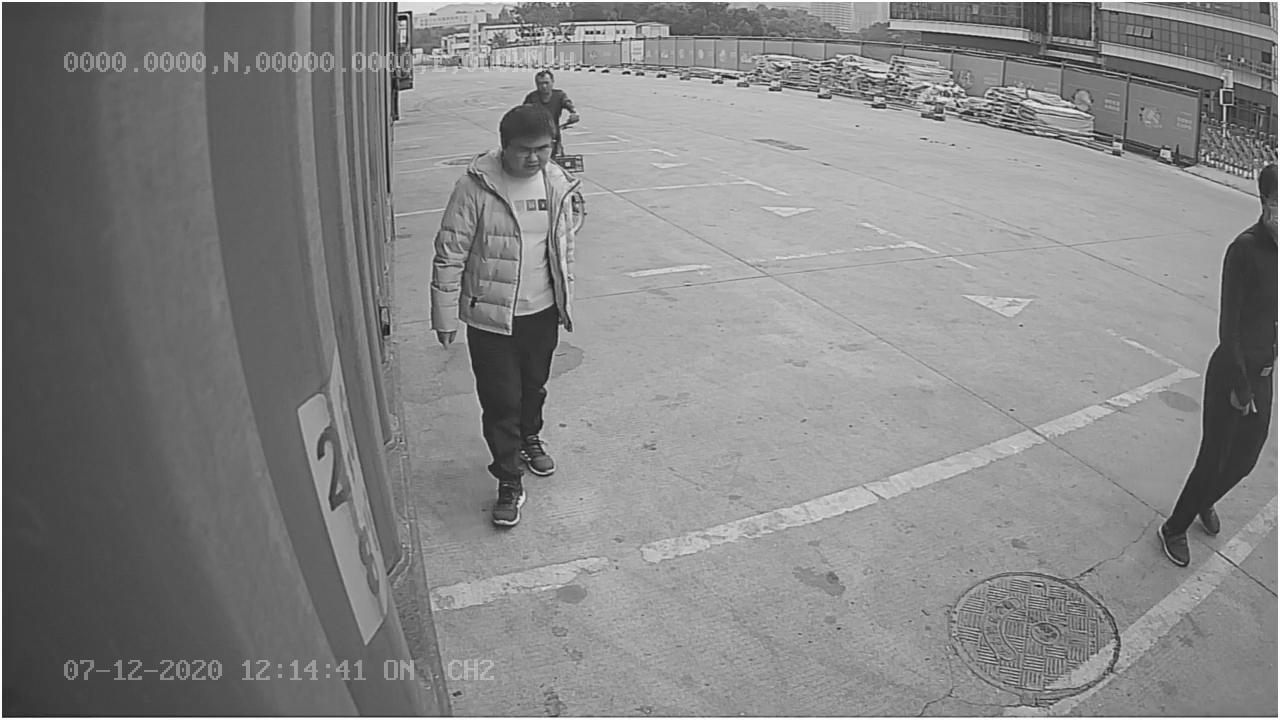person: (425, 105, 583, 528)
